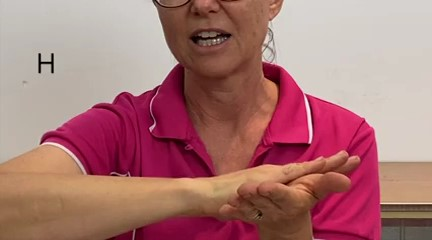H: (196, 141, 377, 240)
